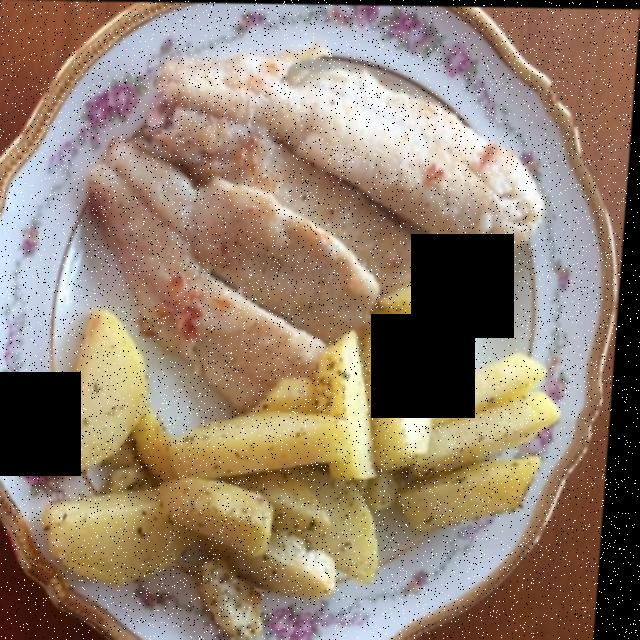perch-fillets-lake: (88, 32, 550, 394)
potatoes-steamed: (30, 250, 565, 628)
